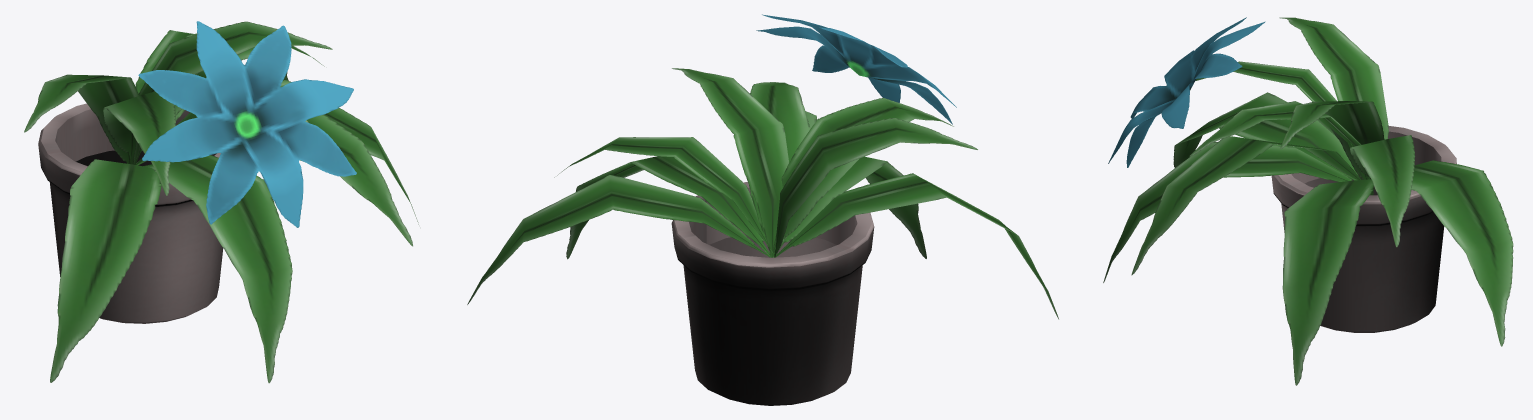
File: FlowerPot_01.fbx
3 renders of one model, left to right at view 1: azimuth 30°, elevation 25°; view 2: azimuth 150°, elevation 25°; view 3: azimuth 270°, elevation 25°, orthographic. The views are drawn at different scales.
Parts seen in each view (by area): view 1: pPlane31, pCylinder5, pPlane8, pPlane7, pPlane18, pPlane12, pPlane5, pPlane17, pPlane6, pPlane4; view 2: pCylinder5, pPlane4, pPlane17, pPlane12, pPlane31, pPlane8, pPlane14, pPlane18, pPlane6, pPlane7, pPlane16; view 3: pCylinder5, pPlane6, pPlane4, pPlane31, pPlane5, pPlane12, pPlane7, pPlane14, pPlane8, pPlane17, pPlane16, pPlane18.
Boxes of the visible parts, x1,y1,x2,y2 form: pPlane31: (138, 21, 356, 227); pCylinder5: (38, 103, 223, 323); pPlane8: (50, 159, 161, 382); pPlane7: (143, 155, 292, 383); pPlane18: (103, 91, 175, 195); pPlane12: (24, 74, 139, 164); pPlane5: (135, 112, 412, 246); pPlane17: (133, 21, 332, 164); pPlane6: (136, 80, 418, 224); pPlane4: (135, 30, 288, 151); pCylinder5: (671, 182, 874, 405); pPlane4: (467, 175, 770, 304); pPlane17: (672, 68, 788, 257); pPlane12: (774, 118, 977, 257); pPlane31: (756, 14, 956, 124); pPlane8: (775, 173, 1058, 319); pPlane14: (554, 137, 772, 253); pPlane18: (772, 98, 953, 252); pPlane6: (566, 156, 770, 259); pPlane7: (774, 156, 926, 258); pPlane16: (748, 82, 810, 254); pCylinder5: (1271, 126, 1456, 332); pPlane6: (1282, 179, 1373, 385); pPlane4: (1373, 160, 1513, 346); pPlane31: (1108, 17, 1265, 167); pPlane5: (1131, 136, 1361, 275); pPlane12: (1279, 17, 1388, 194); pPlane7: (1103, 142, 1352, 282); pPlane14: (1350, 135, 1415, 247); pPlane8: (1173, 92, 1358, 180); pPlane17: (1280, 101, 1384, 195); pPlane16: (1189, 101, 1372, 195); pPlane18: (1195, 61, 1352, 146).
Size of the model in its own units: 69.41 by 46.62 by 61.26.
